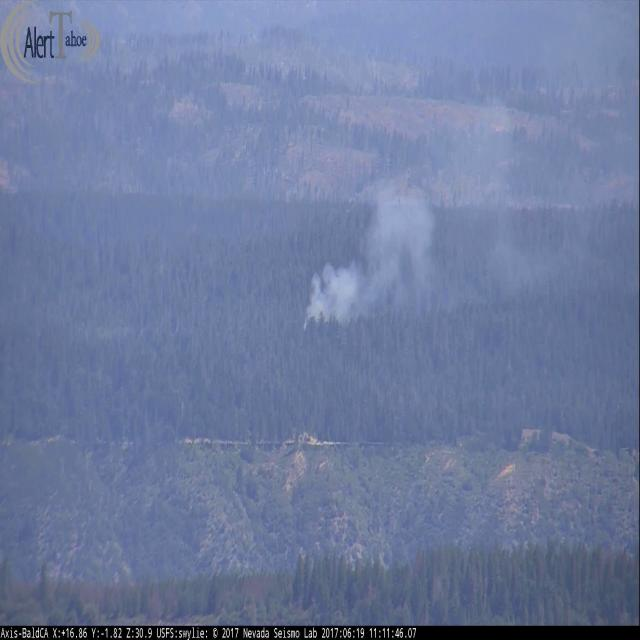smoke: (305, 76, 610, 336)
